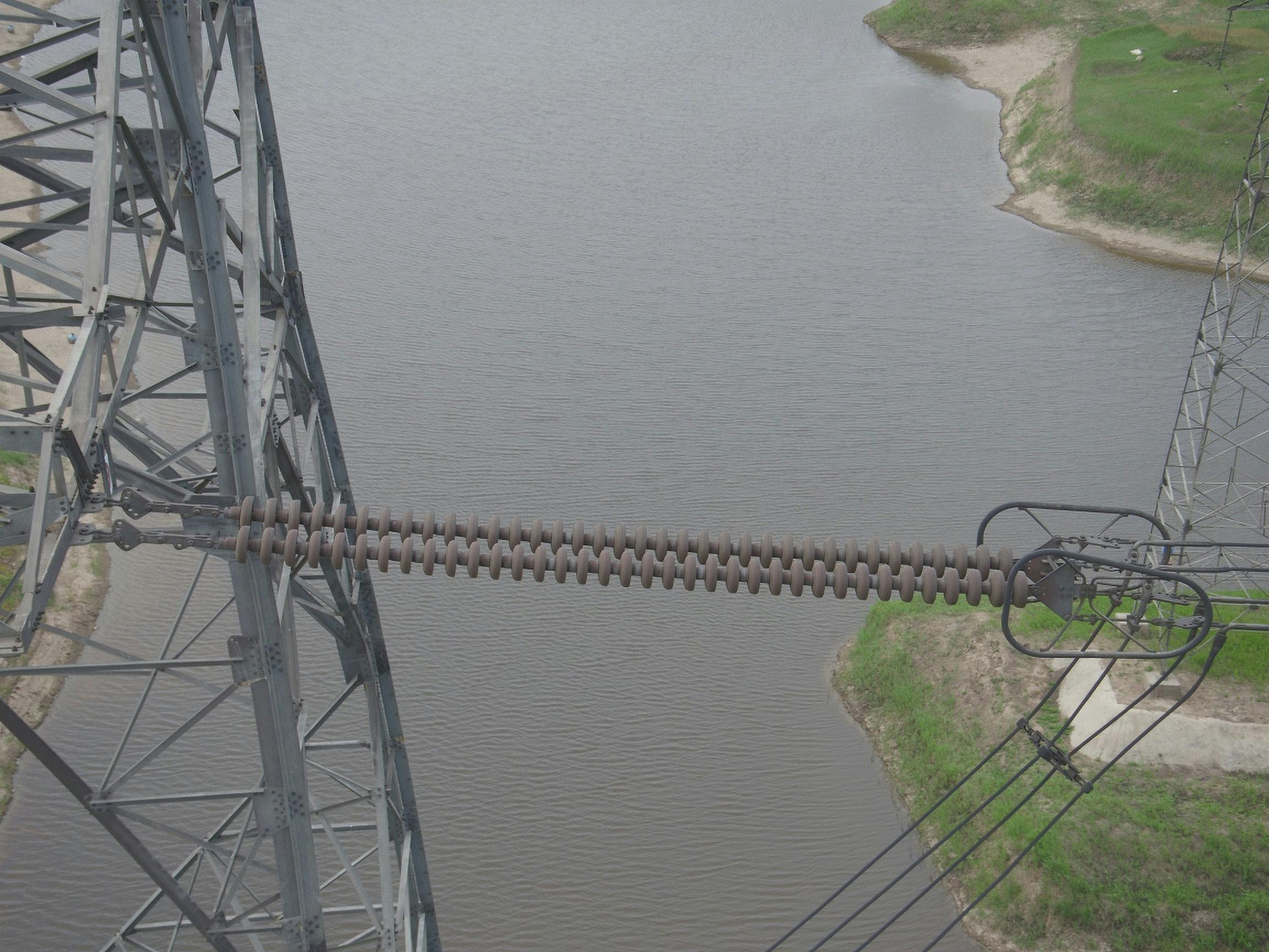insulator: (229, 493, 1035, 613)
